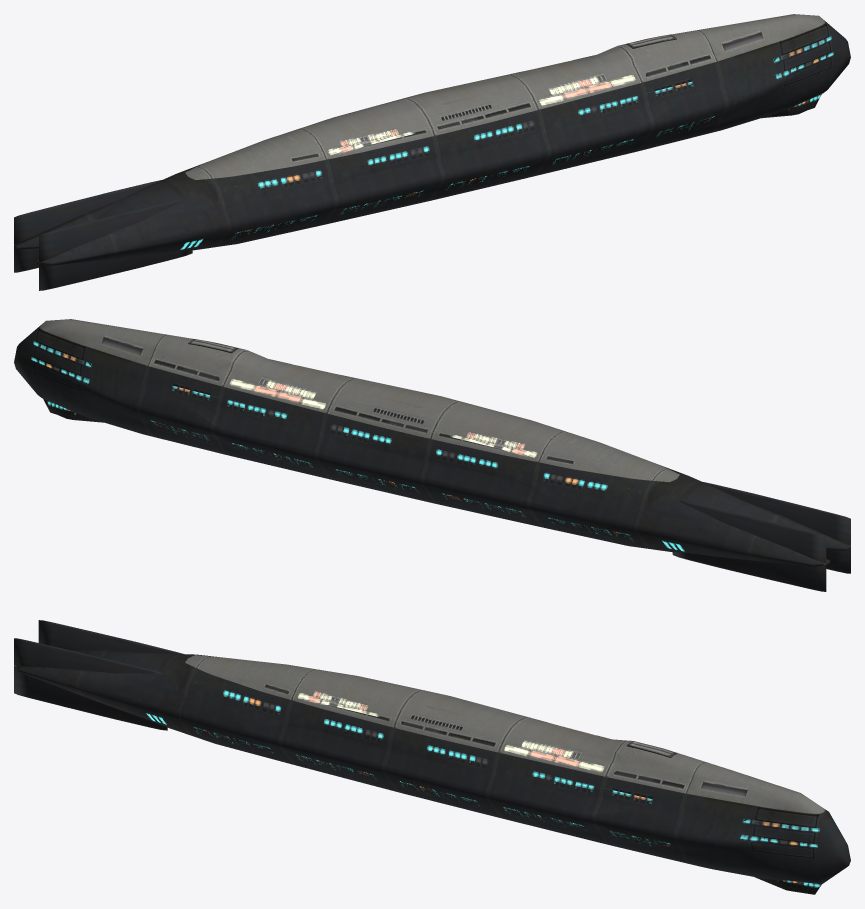
The model's file is uboat.glb.
3 renders of one model, top to bottom at view 1: azimuth 30°, elevation 25°; view 2: azimuth 150°, elevation 25°; view 3: azimuth 330°, elevation 25°, orthographic.
Visible parts, largest first — view 1: Material1, Material1.001; view 2: Material1, Material1.001; view 3: Material1, Material1.001.
Boxes of the visible parts, x1,y1,x2,y2 form: Material1: (15, 14, 850, 265); Material1.001: (14, 180, 192, 290); Material1: (14, 319, 849, 566); Material1.001: (672, 482, 850, 591); Material1: (16, 648, 850, 894); Material1.001: (14, 620, 184, 730).
Bounding box in the file's own units: 119 × 18.61 × 15.52.
1 material, 1 textured.
